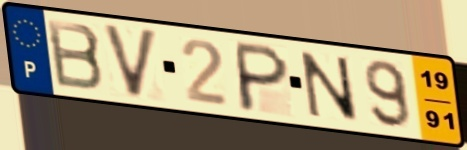2: (179, 37, 228, 108)
9: (361, 58, 414, 130)
B: (43, 17, 107, 93)
N: (297, 49, 363, 125)
P: (235, 39, 292, 115)
V: (99, 21, 160, 102)
